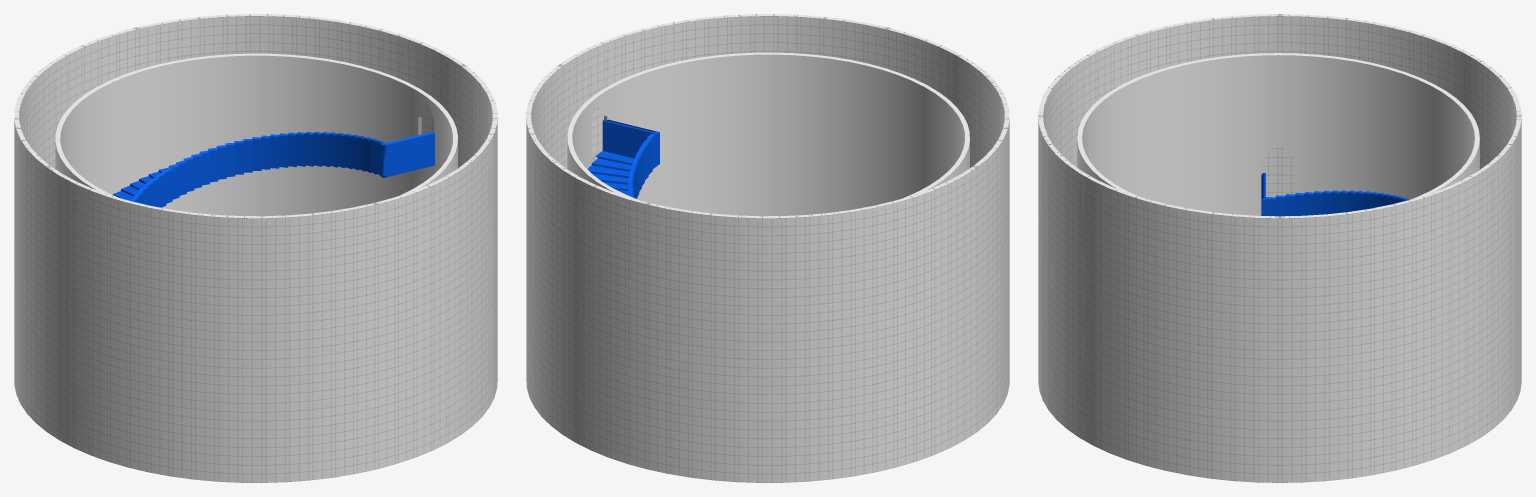
File: structure2.0.fbx
3 views of the same model, side by side, from view 1: azimuth 30°, elevation 25°; view 2: azimuth 150°, elevation 25°; view 3: azimuth 270°, elevation 25° (orthographic).
Visible parts, largest first — view 1: polySurface20; view 2: polySurface20; view 3: polySurface20.
Part boxes in pixels (box(x1,y1,x2,y2)): polySurface20: box(14, 14, 497, 482); polySurface20: box(526, 14, 1009, 482); polySurface20: box(1038, 14, 1521, 482).
Bounding box in the file's own units: 60.77 × 36.7 × 60.77.
5 materials, 2 textured.
